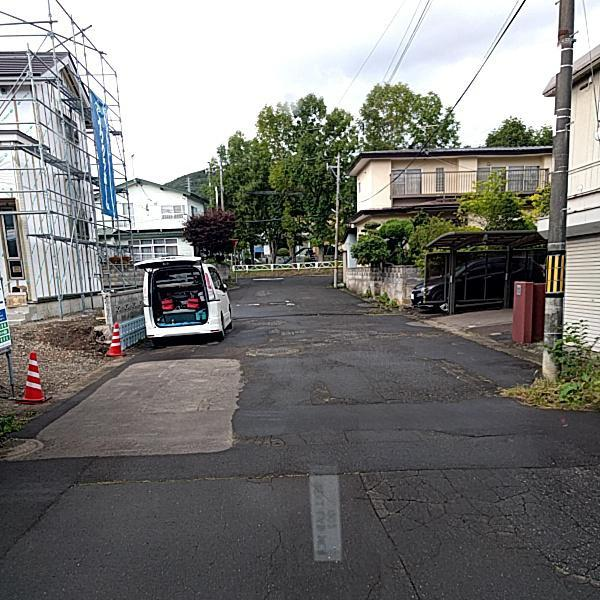D00: (263, 519, 287, 570)
D20: (361, 450, 599, 596)
